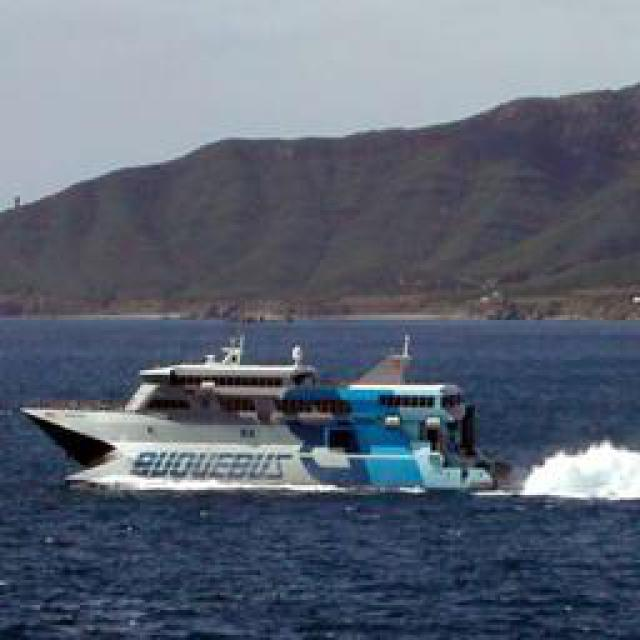Ship: (25, 362, 528, 500)
